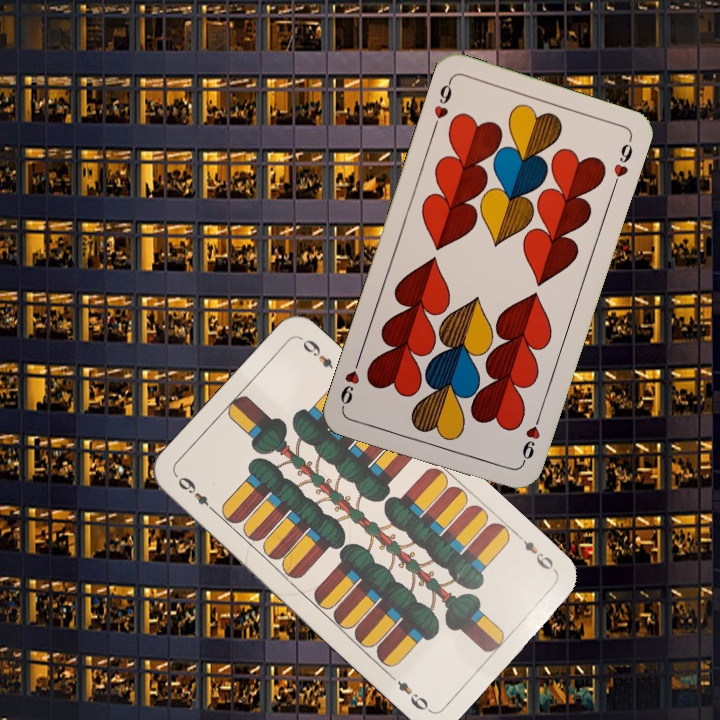E9: (513, 529, 560, 575), (173, 472, 220, 516)
H9: (517, 410, 544, 468), (428, 76, 455, 133)
